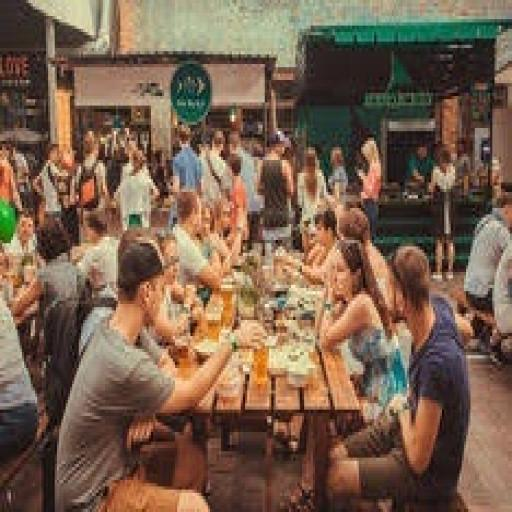eating: (52, 234, 264, 508)
